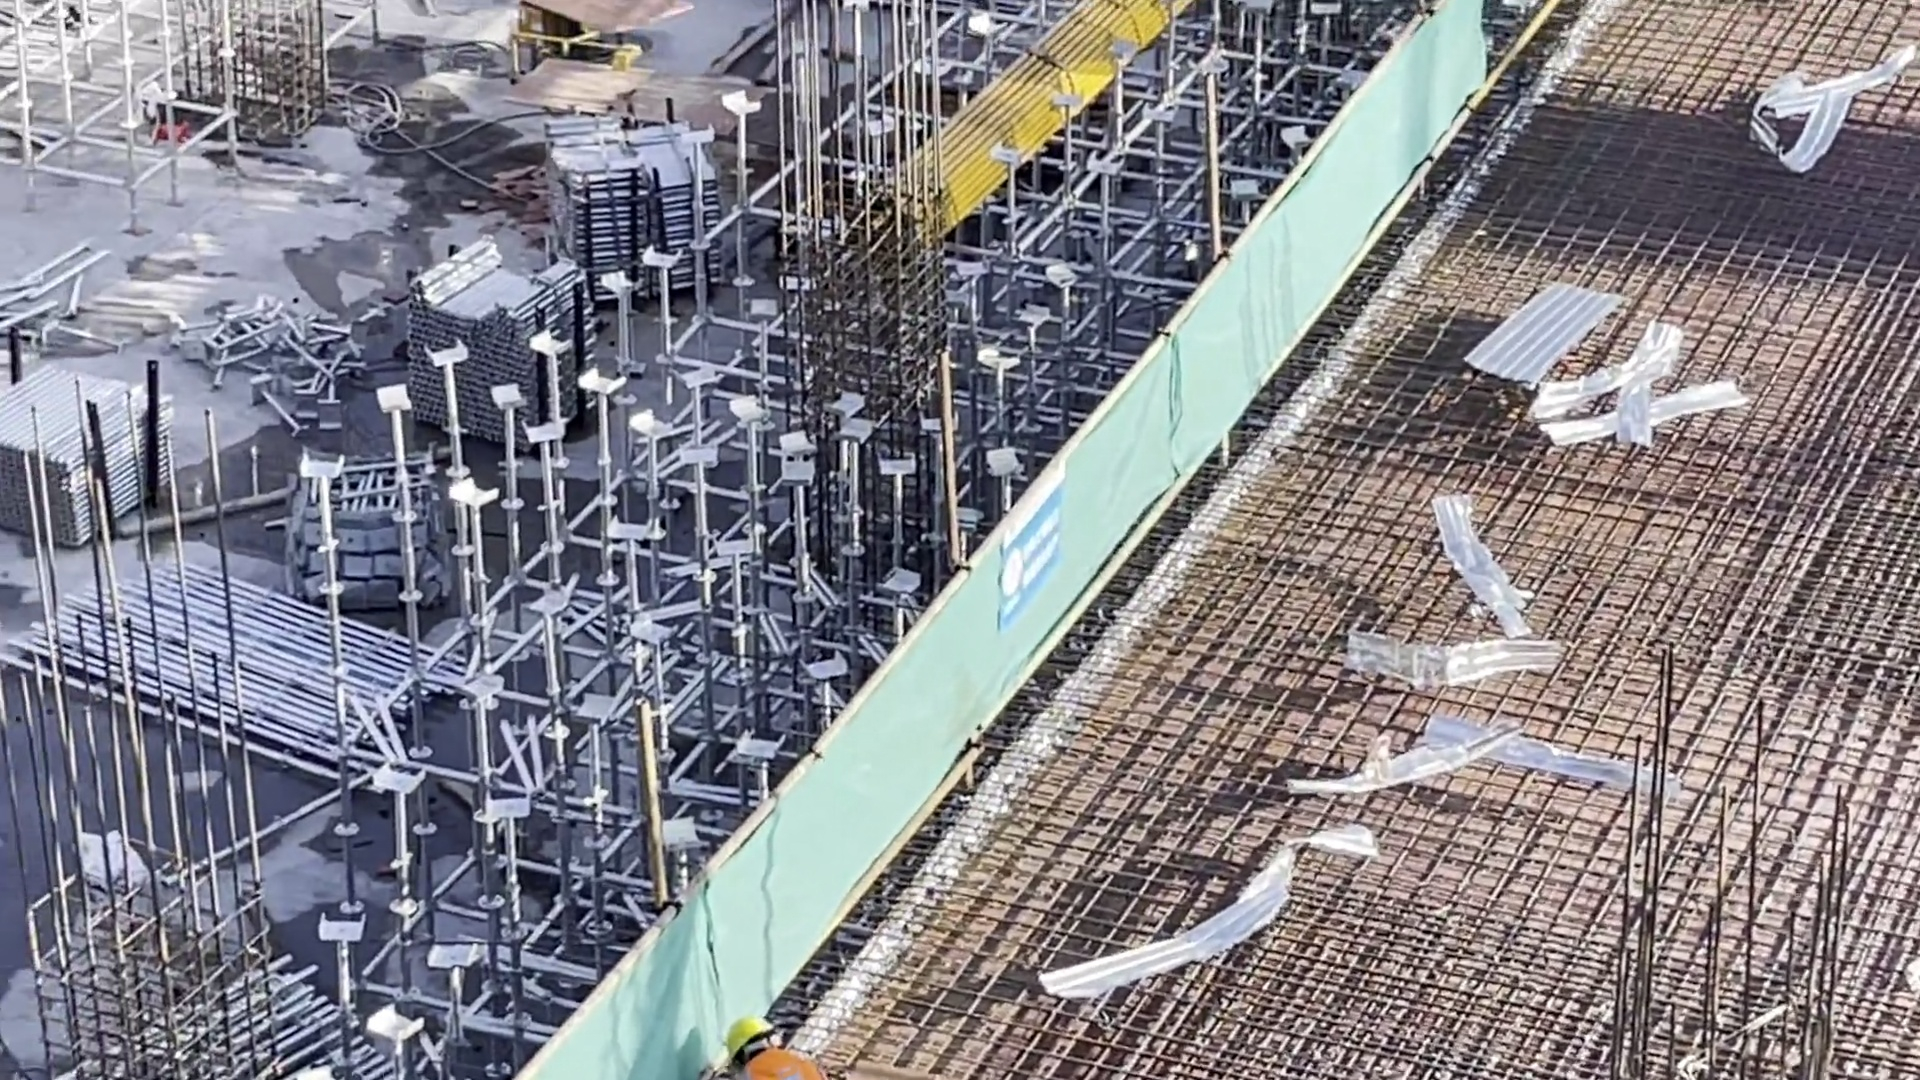cutter: (527, 53, 742, 132), (517, 1, 678, 78)
helmet: (719, 1020, 775, 1052)
person: (721, 1019, 825, 1080)
scaffold: (46, 554, 412, 782), (66, 974, 408, 1080), (1, 371, 179, 548), (404, 259, 575, 441), (569, 135, 713, 300)
slogan: (997, 500, 1063, 604)
vest: (752, 1047, 816, 1080)
